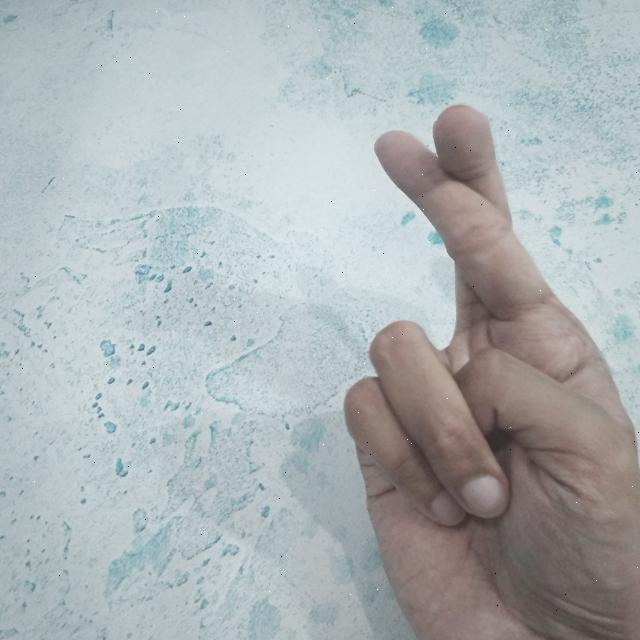R: (334, 94, 640, 640)
